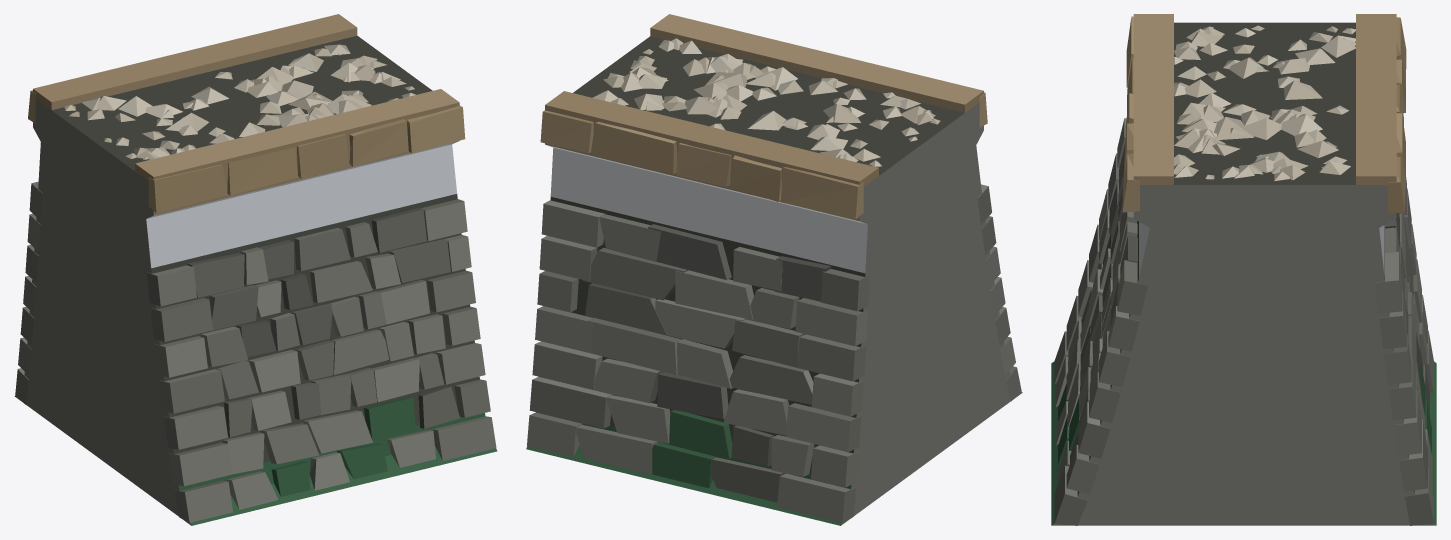
Rendered from ishigaki-stone-wall-255b7e.glb.
The picture shows the model from 3 angles, left to right: view 1: azimuth 30°, elevation 25°; view 2: azimuth 150°, elevation 25°; view 3: azimuth 270°, elevation 25°; orthographic projection. The views are drawn at different scales.
Parts seen in each view (by area): view 1: ishigaki-wall-mesh; view 2: ishigaki-wall-mesh; view 3: ishigaki-wall-mesh.
Part boxes in pixels (x1,y1,x2,y2): ishigaki-wall-mesh: (14,14,497,525); ishigaki-wall-mesh: (526,14,1022,525); ishigaki-wall-mesh: (1051,14,1436,525).
Bounding box in the file's own units: 2 × 2.03 × 2.
